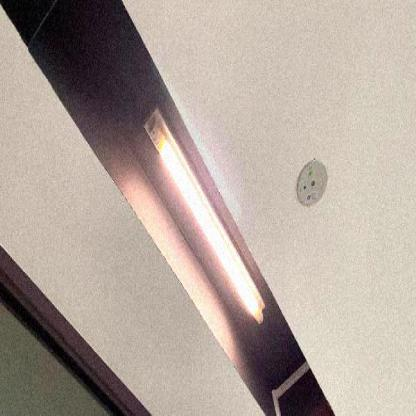light_on: (130, 86, 280, 335)
